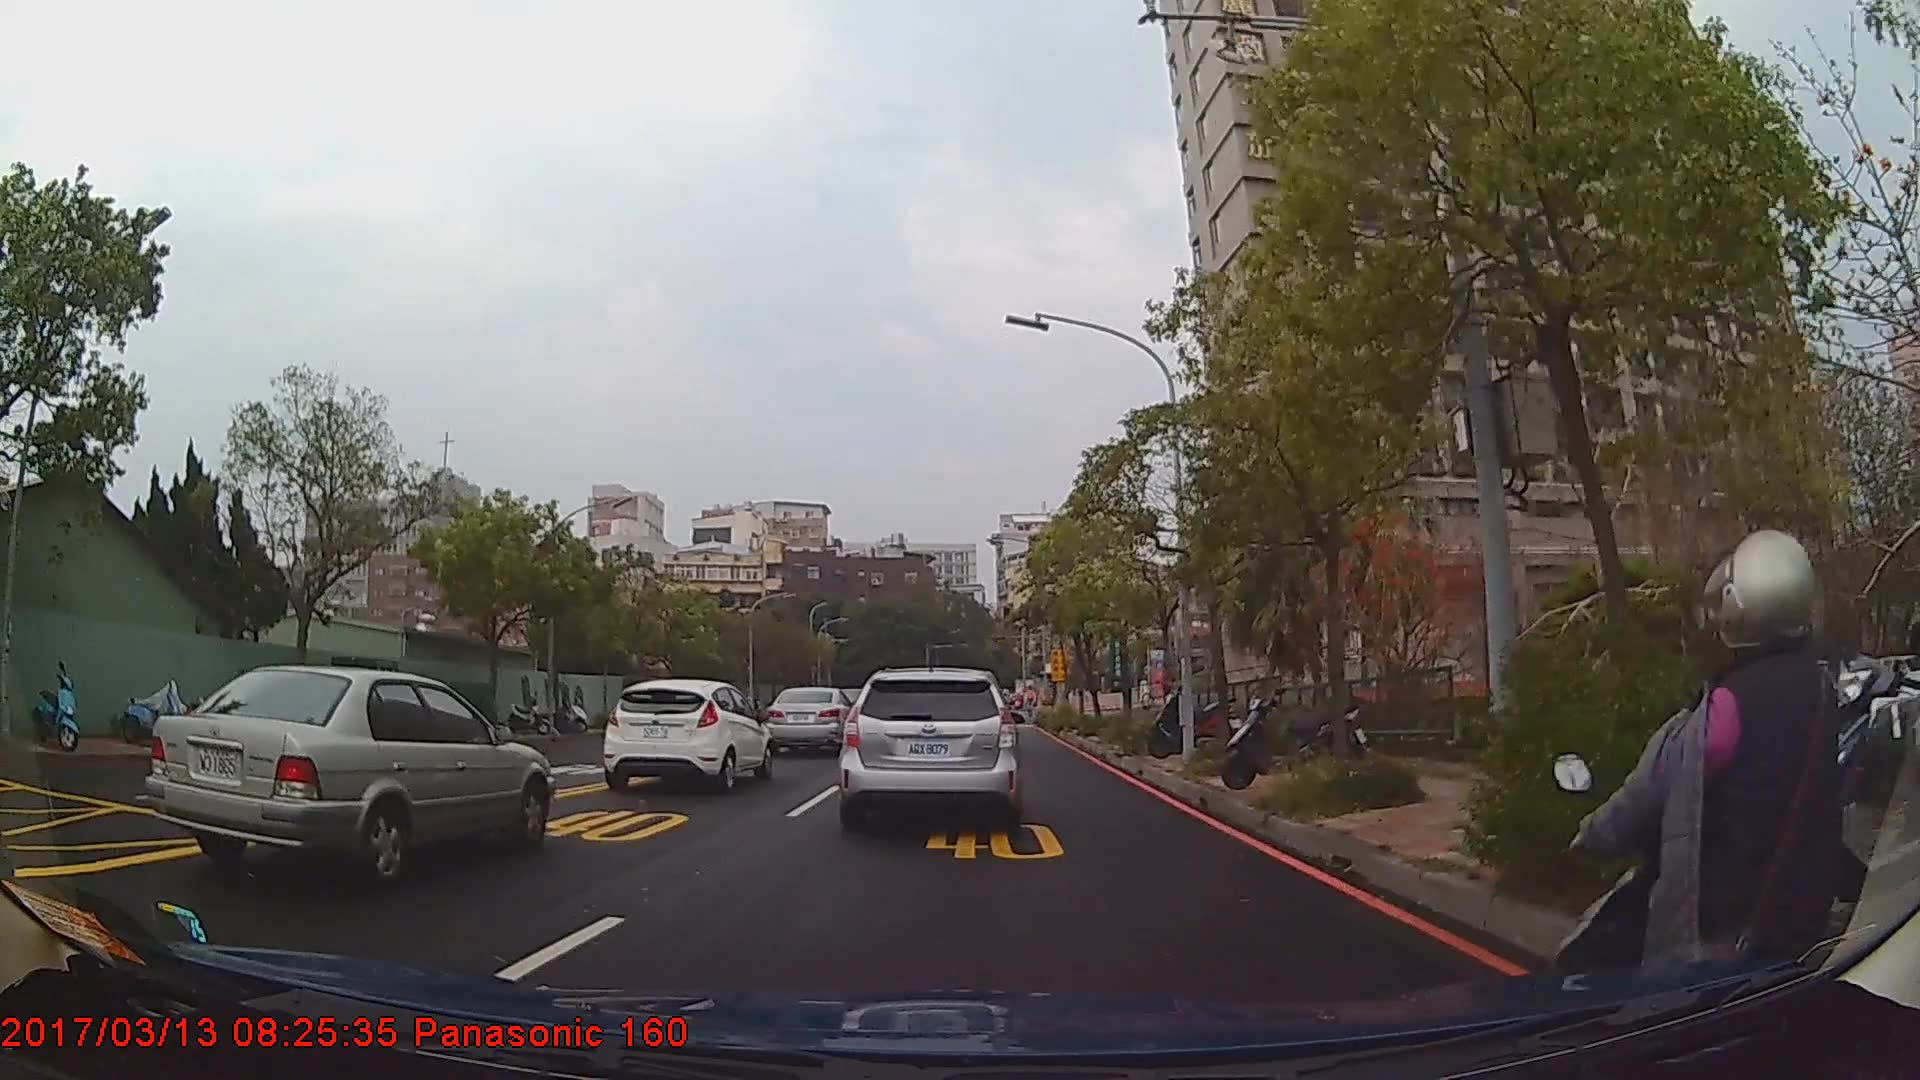rider: (1548, 524, 1920, 1080)
vehicle: (142, 663, 557, 881), (840, 664, 1018, 824), (602, 677, 774, 789), (767, 686, 859, 754)
